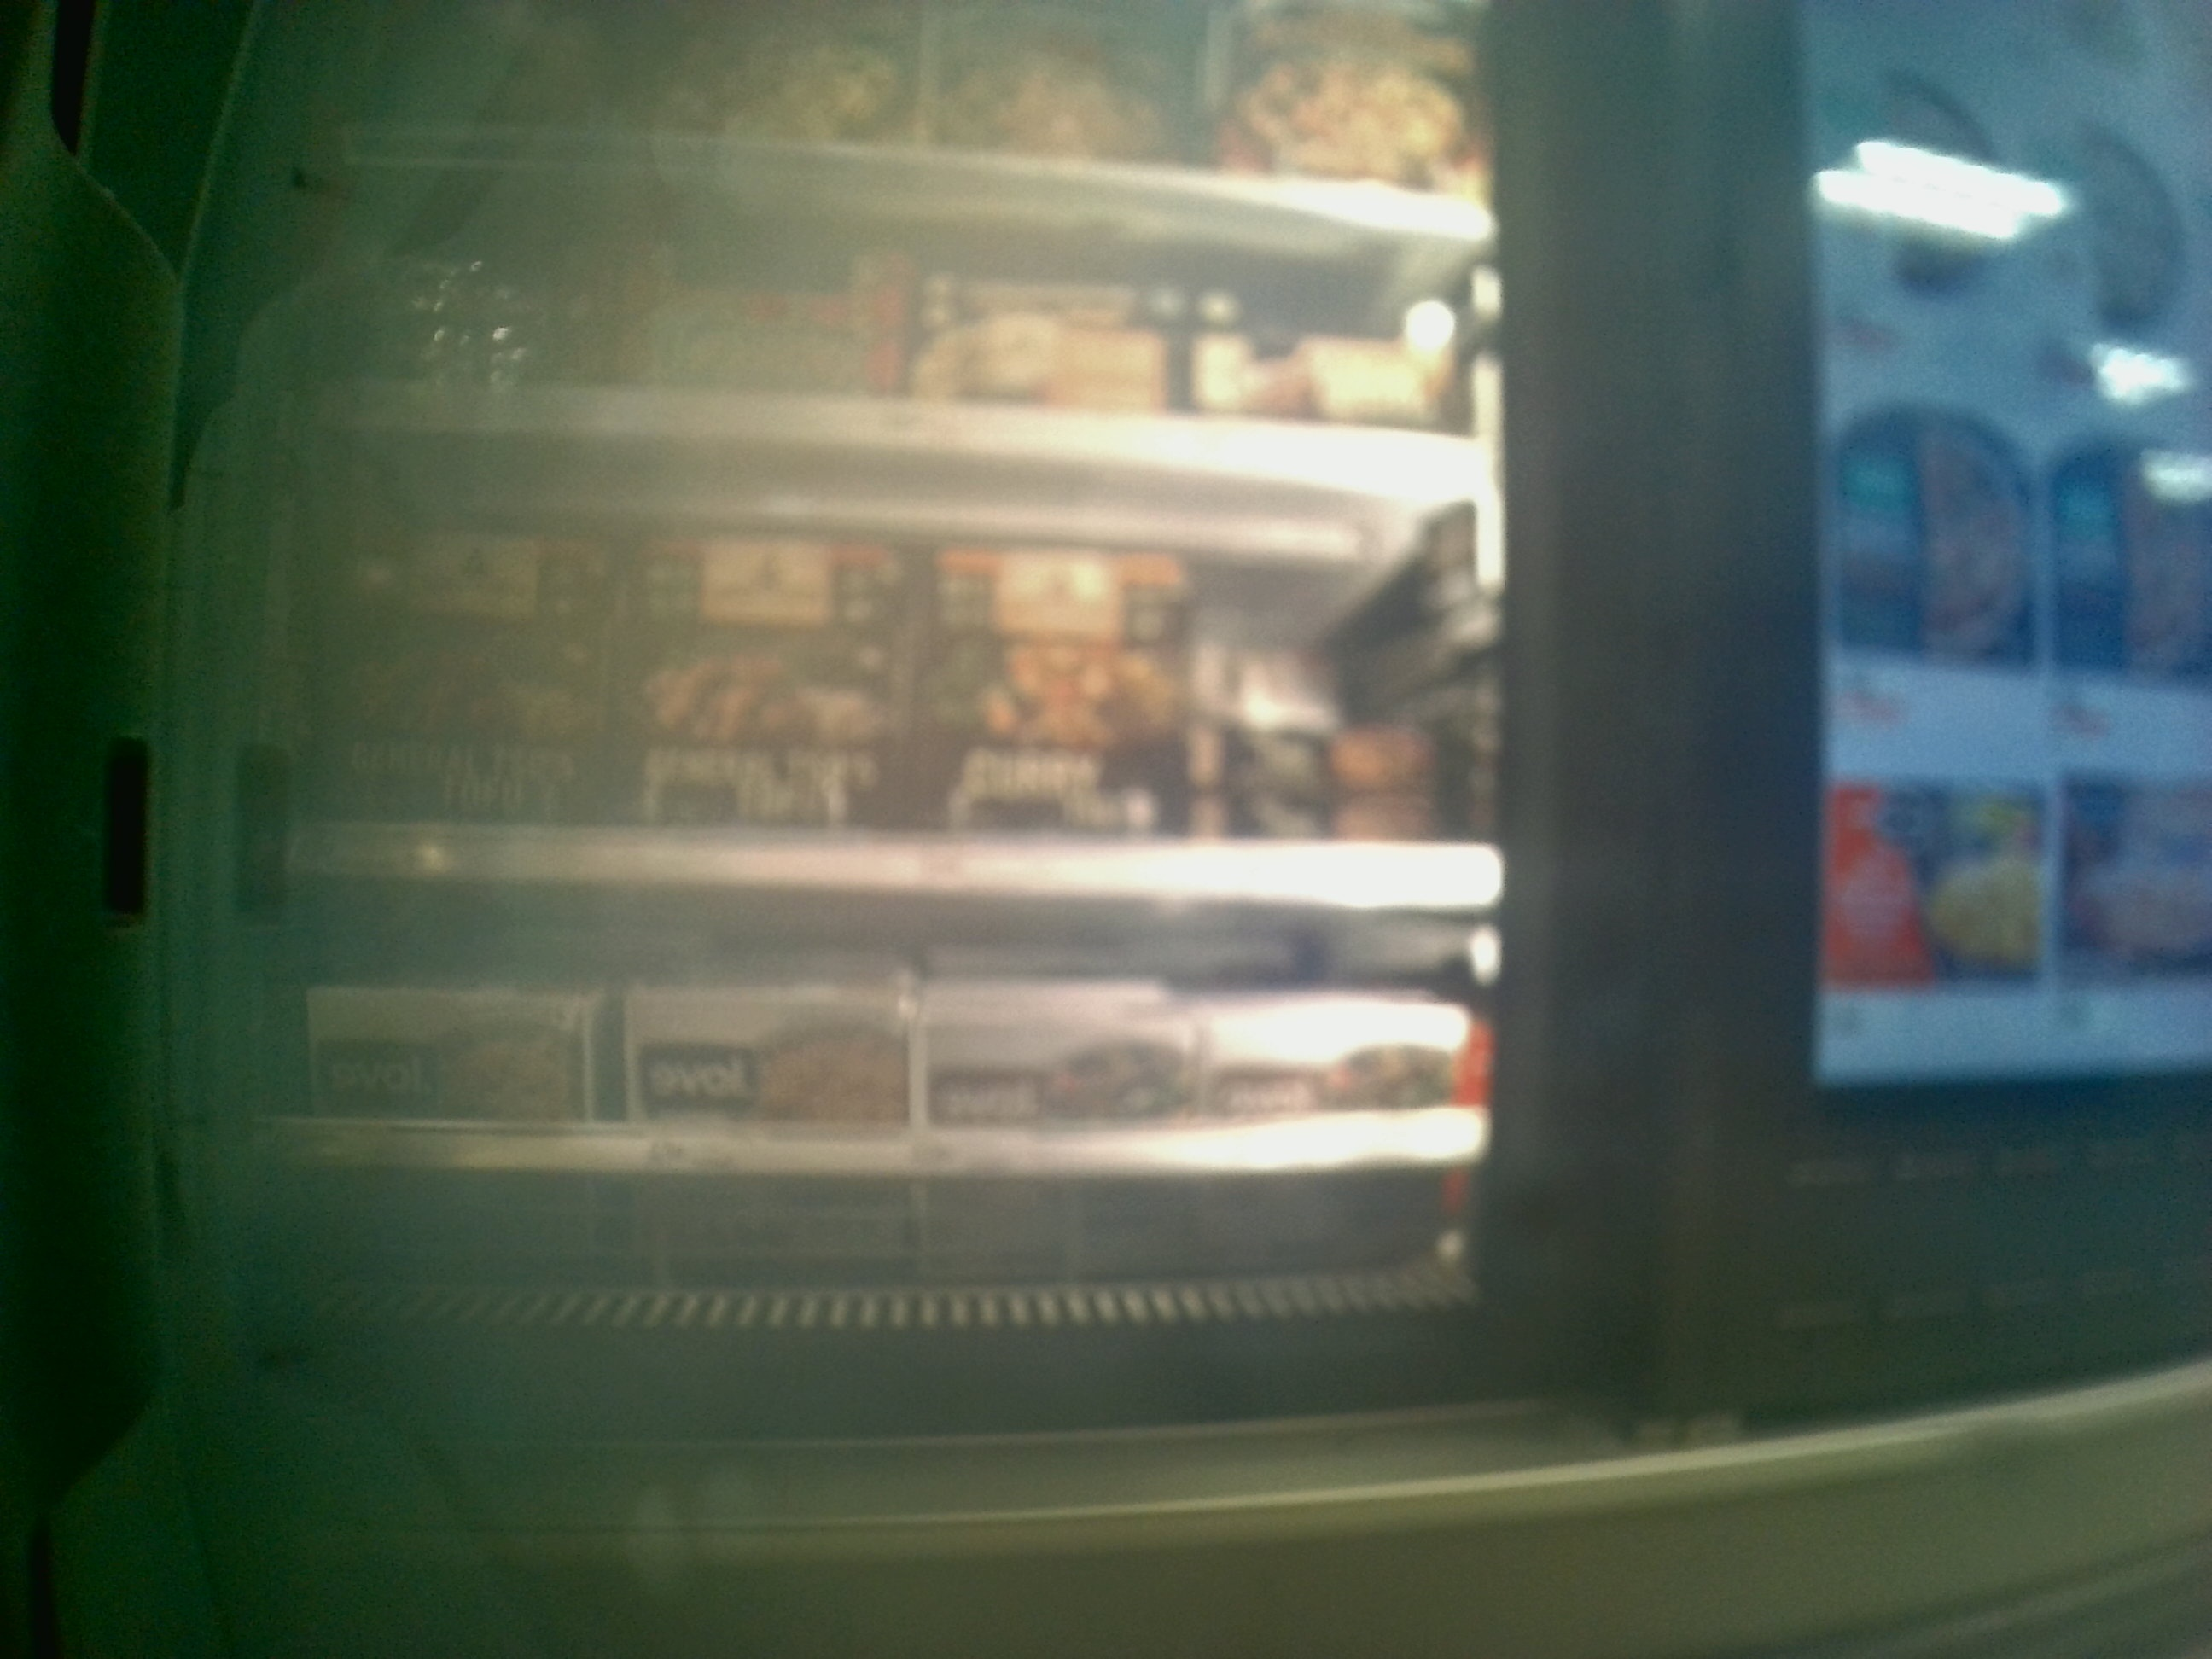frozen-food-shelf: (280, 453, 1505, 915), (249, 918, 1519, 1175)
